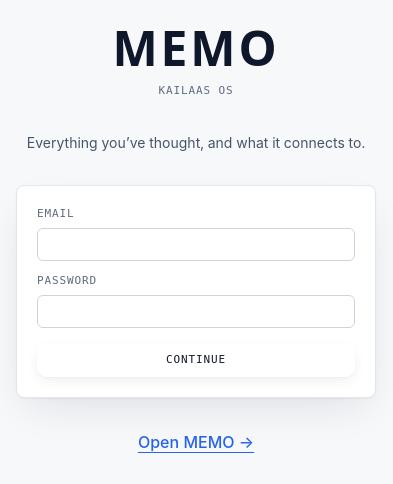
Scenario: signing in › shows one message for a rejected sign-in
Type "a@b.c" into the field labelled "email" at (196, 245), box [37, 228, 355, 261]
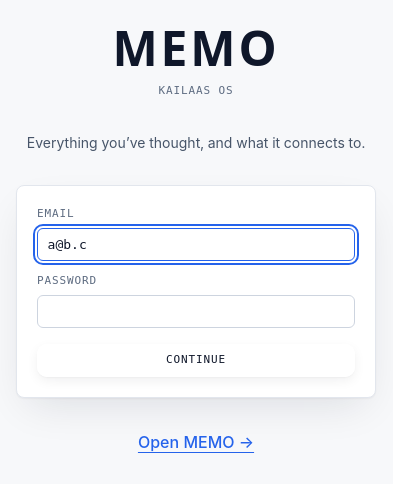
Type "wrong password here" into the password field labelled "password" at (196, 312), box [37, 295, 355, 328]
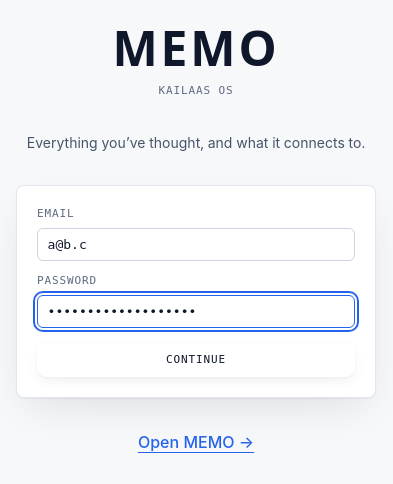
Click the button "Continue" at (196, 361), box [37, 344, 355, 377]
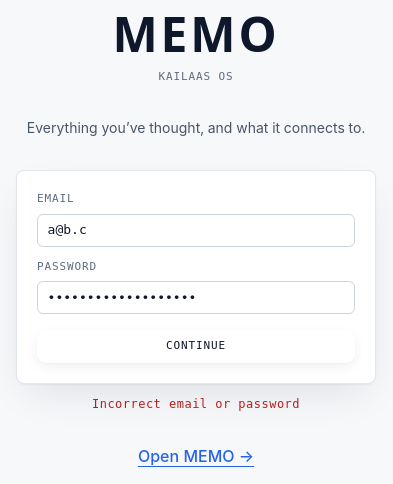
Check: the message with test id "signin-error" reads "Incorrect email or password", box [92, 397, 300, 411]
